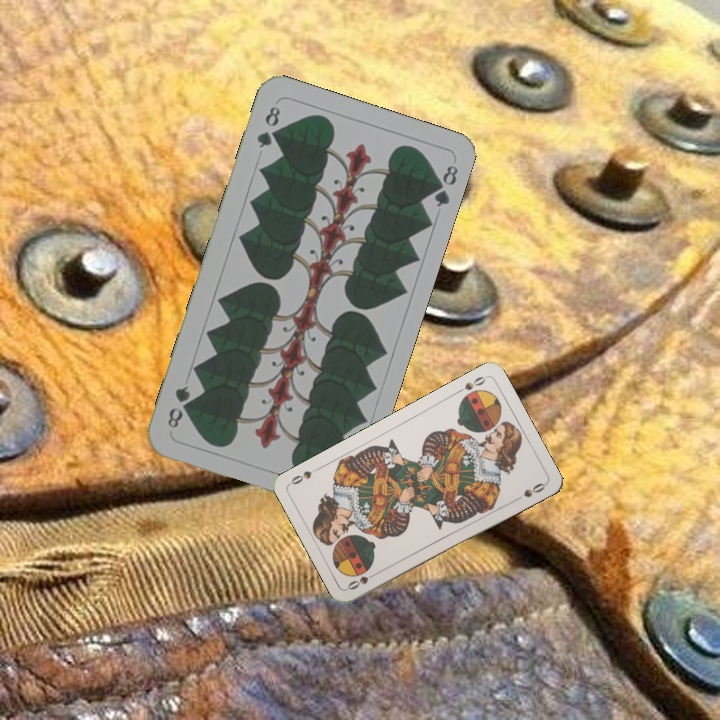G8: (252, 101, 283, 151)
SO: (343, 567, 381, 593), (452, 372, 489, 396)
